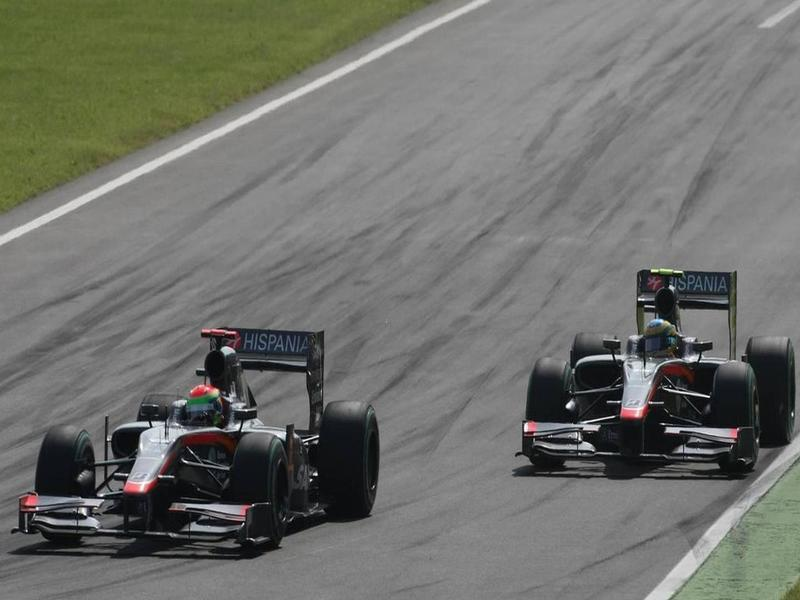f1: (25, 304, 404, 551), (516, 263, 798, 481)
